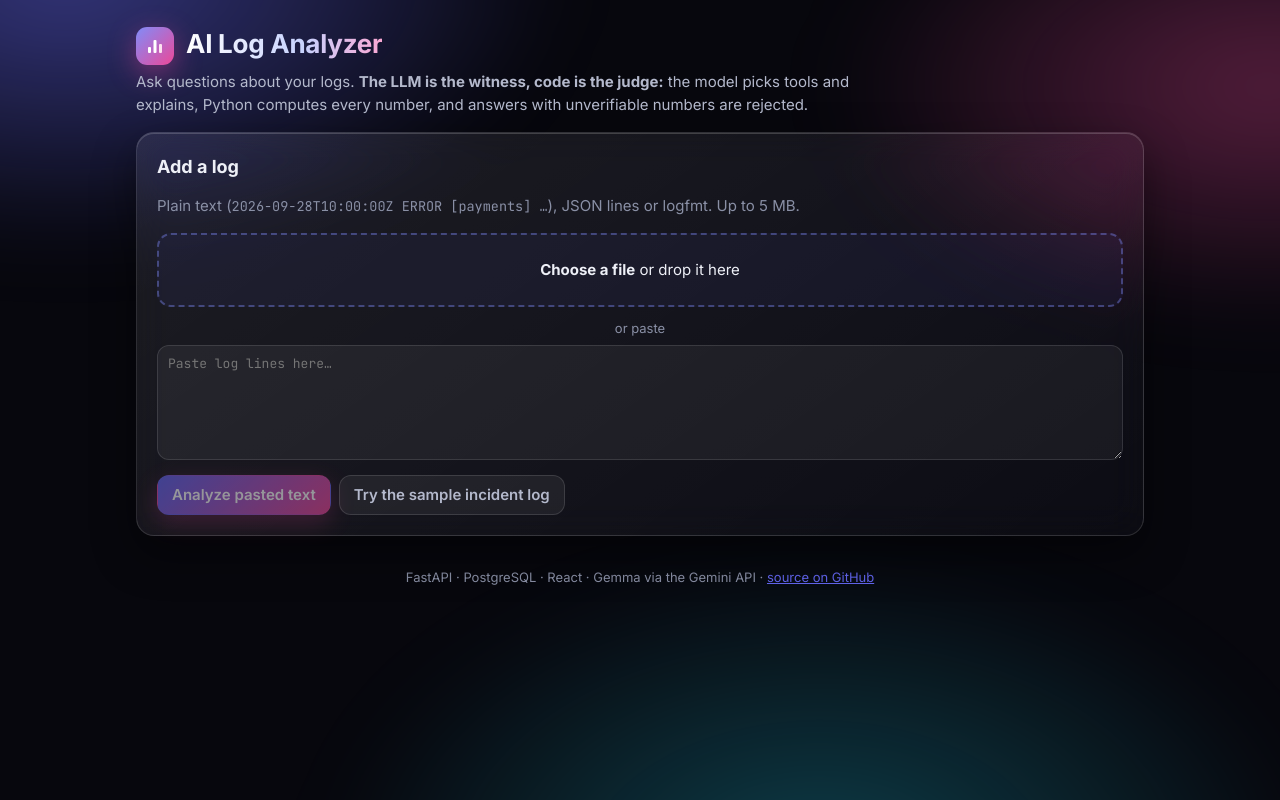
Test case: App › shows the overview computed by code after uploading the sample
Click the button "Try the sample incident log": [452, 495] box [339,474,565,515]
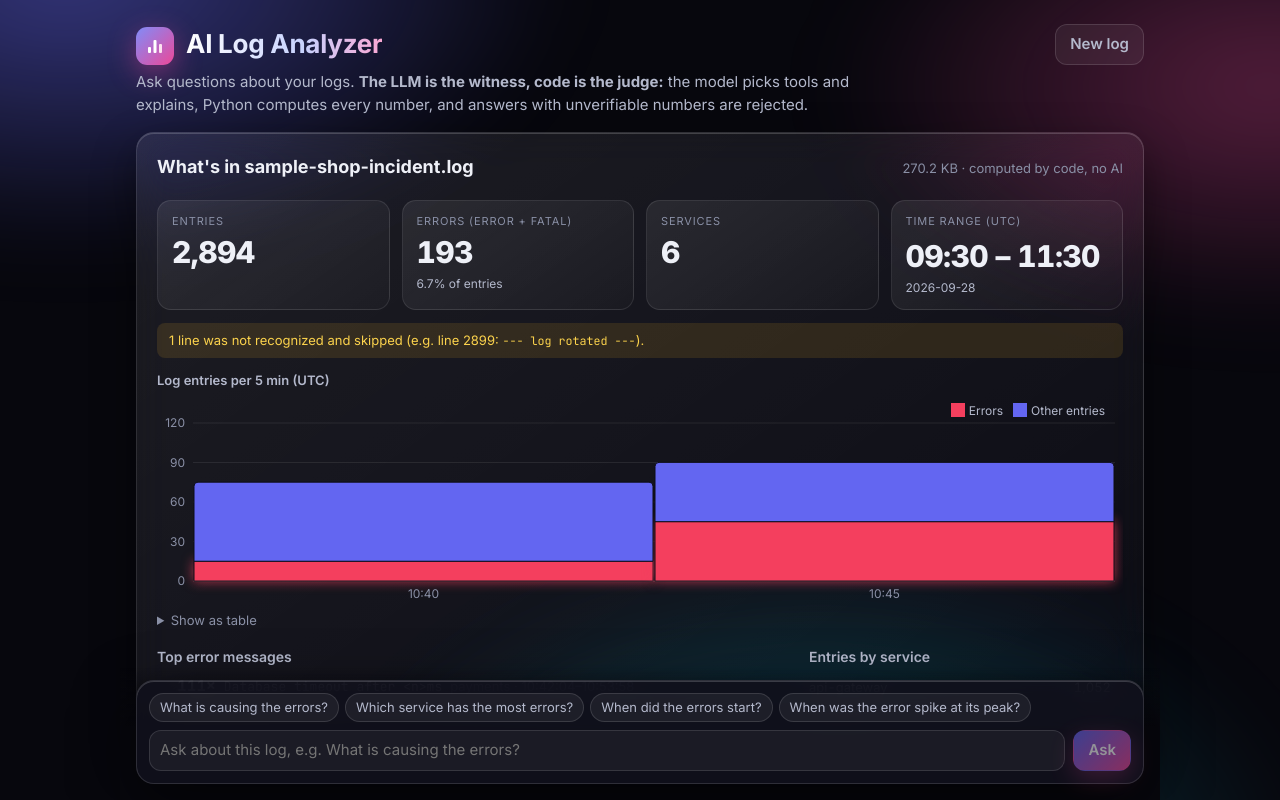
Expected: the heading "What's in sample-shop-incident.log" is shown, [157,153,474,180]
Expected: the text "2,894" is shown, [172,234,254,270]
Expected: the text "193" is shown, [416,234,473,270]
